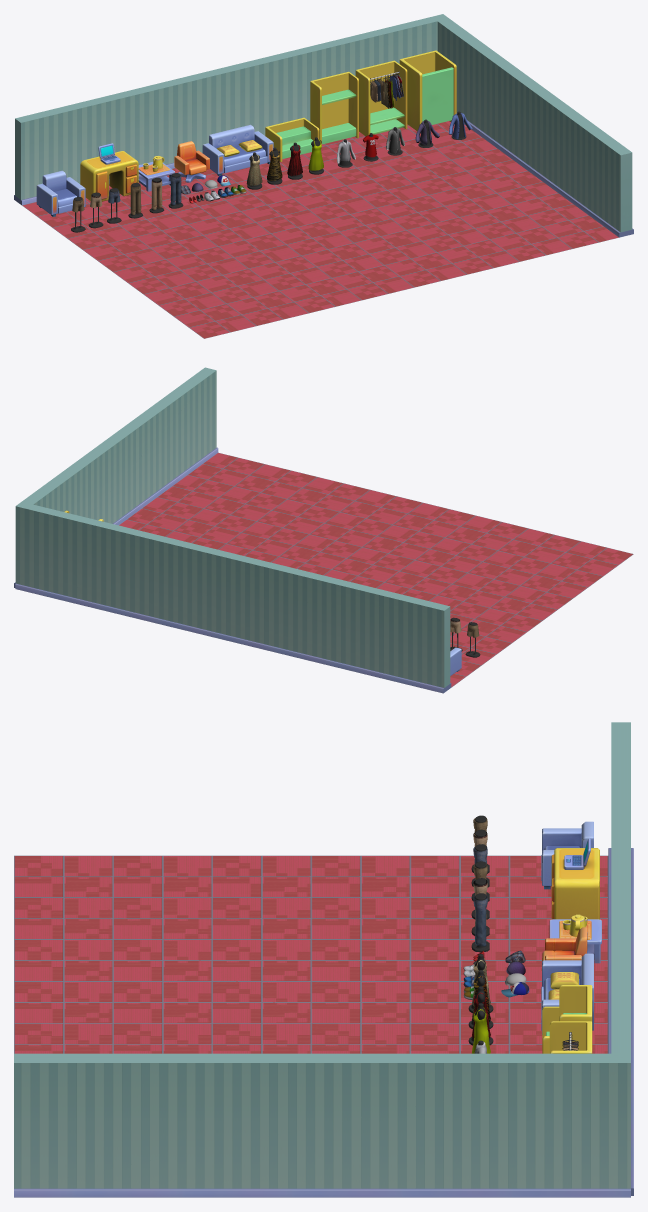
The model's file is room.fbx.
3 renders of one model, top to bottom at view 1: azimuth 30°, elevation 25°; view 2: azimuth 150°, elevation 25°; view 3: azimuth 270°, elevation 25°, orthographic. The views are drawn at different scales.
Visible parts, largest first — view 1: floor, wall, wall1, cupboard1, cupboard, G_BIJIBEN, G_SHAFA1, Box, door, G_SHAFA2, cupboard2, G_LAOBANYI (+1 smaller); view 2: floor, wall, wall1; view 3: floor, wall1, wall, G_BIJIBEN, G_SHAFA2, G_SHAFA1, cupboard, cupboard1, G_LAOBANYI, legs_1, table.
Boxes of the visible parts, bbox=[...] form: floor: bbox=[22, 121, 618, 338]; wall: bbox=[14, 14, 447, 205]; wall1: bbox=[432, 14, 633, 237]; cupboard1: bbox=[310, 71, 358, 146]; cupboard: bbox=[355, 60, 407, 136]; G_BIJIBEN: bbox=[80, 143, 138, 201]; G_SHAFA1: bbox=[202, 124, 273, 176]; Box: bbox=[399, 50, 456, 130]; door: bbox=[422, 67, 453, 124]; G_SHAFA2: bbox=[36, 170, 85, 216]; cupboard2: bbox=[265, 117, 319, 161]; G_LAOBANYI: bbox=[174, 141, 209, 182]; floor: bbox=[119, 452, 633, 687]; wall: bbox=[15, 503, 451, 693]; wall1: bbox=[14, 367, 218, 587]; floor: bbox=[14, 855, 608, 1053]; wall1: bbox=[14, 1053, 630, 1197]; wall: bbox=[608, 722, 633, 1195]; G_BIJIBEN: bbox=[551, 838, 599, 919]; G_SHAFA2: bbox=[541, 821, 593, 889]; G_SHAFA1: bbox=[541, 953, 593, 1034]; cupboard: bbox=[549, 1021, 592, 1053]; cupboard1: bbox=[559, 985, 592, 1021]; G_LAOBANYI: bbox=[541, 927, 587, 970]; legs_1: bbox=[471, 893, 489, 952]; table: bbox=[549, 919, 601, 963].
Bounding box in the file's own units: 2450 × 451 × 1878.
